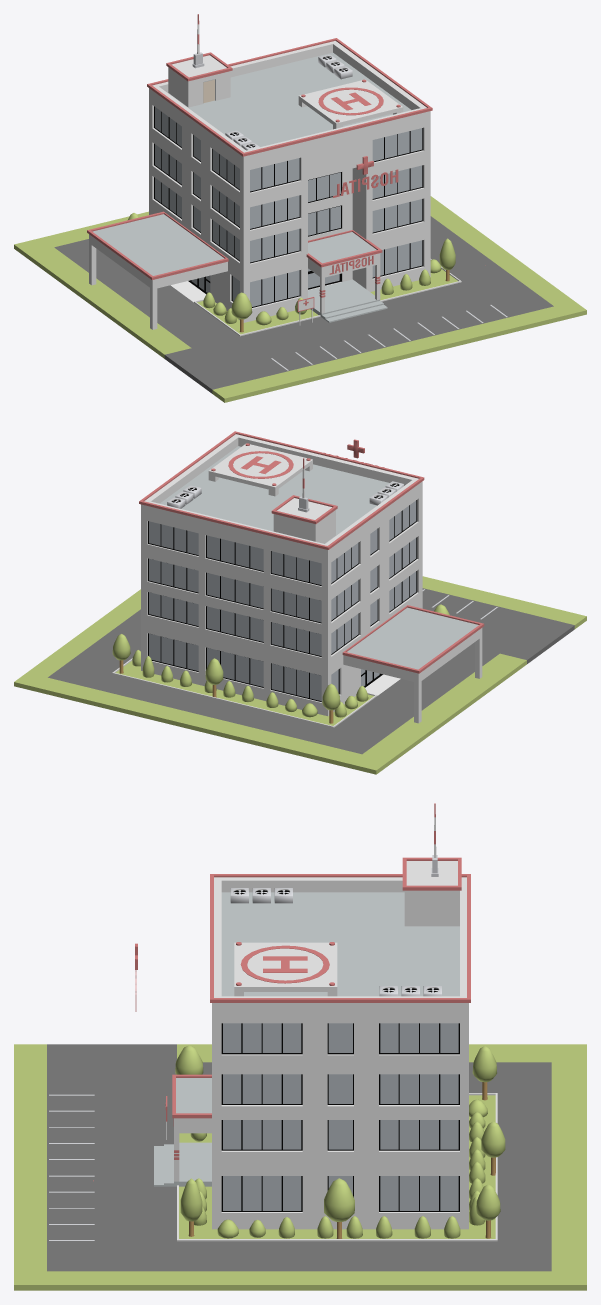
The picture shows the model from 3 angles, top to bottom: view 1: azimuth 30°, elevation 25°; view 2: azimuth 150°, elevation 25°; view 3: azimuth 270°, elevation 25°; orthographic projection. The views are drawn at different scales.
Parts seen in each view (by area): view 1: building_hospital, floor, windows_and_doors, cadre, H, grass_1, sign_1; view 2: building_hospital, floor, windows_and_doors, cadre, H, grass_1, circle; view 3: floor, building_hospital, windows_and_doors, grass_1, cadre, H, object 14, circle, object 27, object 16, object 21, object 23 (+2 smaller).
Part boxes in pixels (bbox=[...]): building_hospital: bbox=[89, 14, 430, 329]; floor: bbox=[14, 196, 586, 402]; windows_and_doors: bbox=[154, 106, 423, 307]; cadre: bbox=[87, 38, 432, 279]; H: bbox=[298, 79, 403, 129]; grass_1: bbox=[203, 259, 441, 325]; sign_1: bbox=[329, 156, 485, 274]; building_hospital: bbox=[141, 434, 482, 723]; floor: bbox=[14, 576, 586, 774]; windows_and_doors: bbox=[148, 500, 417, 701]; cadre: bbox=[139, 431, 484, 673]; H: bbox=[208, 444, 312, 496]; grass_1: bbox=[132, 650, 368, 717]; circle: bbox=[228, 451, 293, 478]; floor: bbox=[14, 1044, 586, 1290]; building_hospital: bbox=[154, 803, 468, 1229]; windows_and_doors: bbox=[221, 1023, 459, 1211]; grass_1: bbox=[190, 1099, 487, 1238]; cadre: bbox=[172, 857, 470, 1118]; H: bbox=[234, 942, 337, 996]; object 14: bbox=[324, 1178, 354, 1221]; circle: bbox=[240, 945, 329, 983]; object 27: bbox=[180, 1178, 202, 1221]; object 16: bbox=[481, 1121, 505, 1157]; object 21: bbox=[476, 1184, 500, 1220]; object 23: bbox=[472, 1046, 496, 1082].
Bounding box in the file's own units: 3099 × 1999 × 3120.
